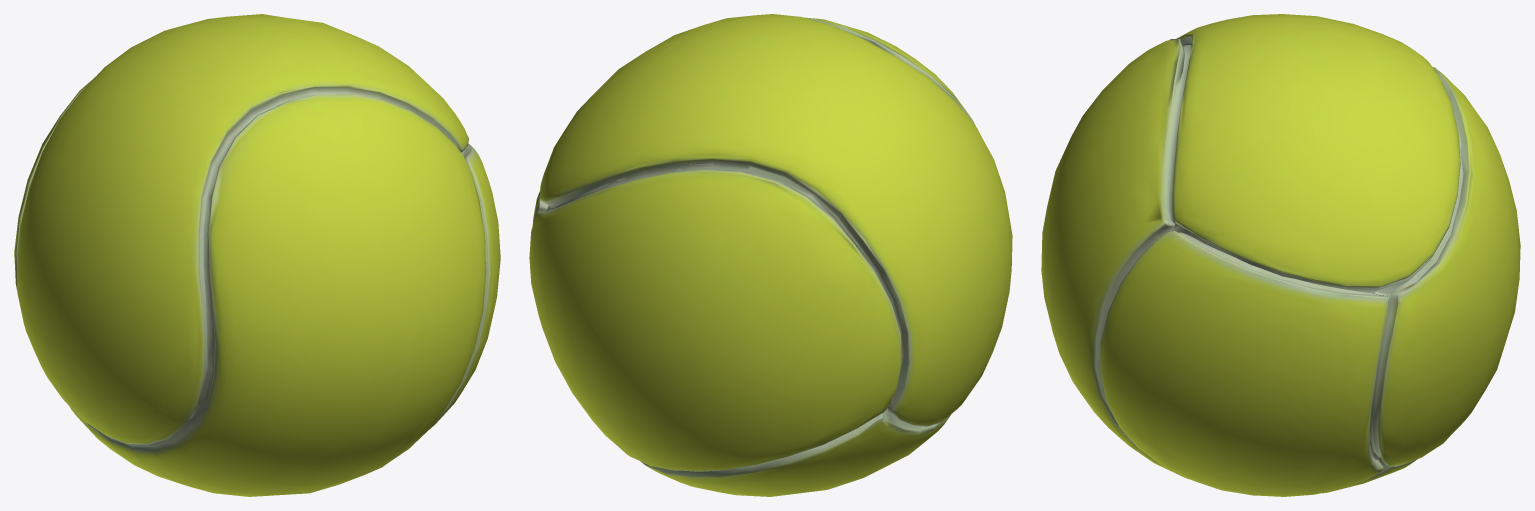
File: selected.glb
The picture shows the model from 3 angles, left to right: view 1: azimuth 30°, elevation 25°; view 2: azimuth 150°, elevation 25°; view 3: azimuth 270°, elevation 25°; orthographic projection.
Parts seen in each view (by area): view 1: tripo_node_d50702bd-adeb-4c95-8d94-e04015c5e049; view 2: tripo_node_d50702bd-adeb-4c95-8d94-e04015c5e049; view 3: tripo_node_d50702bd-adeb-4c95-8d94-e04015c5e049.
Boxes of the visible parts, x1,y1,x2,y2 form: tripo_node_d50702bd-adeb-4c95-8d94-e04015c5e049: (14,14,500,496); tripo_node_d50702bd-adeb-4c95-8d94-e04015c5e049: (529,14,1012,496); tripo_node_d50702bd-adeb-4c95-8d94-e04015c5e049: (1041,14,1520,496).
Bounding box in the file's own units: 0.998 × 0.998 × 0.998.
Materials: 1 (1 with a texture image).
